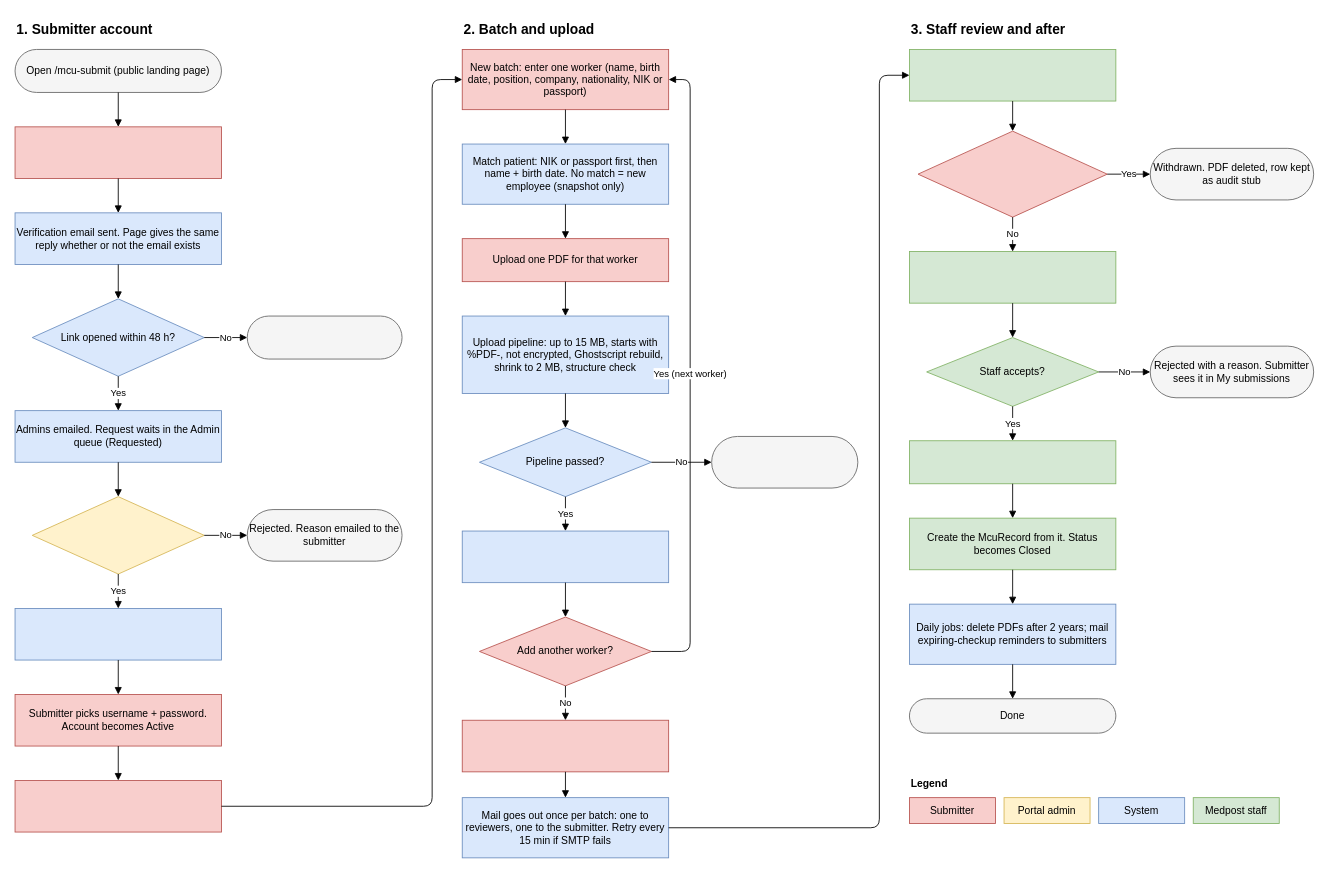
Image size: 1329x873. Some labels were removed from this diagram. The centre of each missing label's shape, as x and y in pixels:
Approval email with one-time setup link (valid 3 days): point 117,634
Mark Reviewed: point 1012,462
Portal admin approves?: point 117,535
Press Send for review and confirm. Batch is locked, documents become Pending: point 565,745
Register: name, email, company (pick only), position + Turnstile: point 117,152
Rejected with a message. No file or row kept: point 784,462
Request purged: point 324,337
Saved as Draft. Staff cannot see it; submitter can remove it: point 565,556
Sign in: username, password, Turnstile (5 wrong passwords lock 15 min): point 117,806
Staff opens the PDF (logged), links or creates the Patient: point 1012,277
Staff review queue (Pending documents only): point 1012,75
Submitter withdraws while still Pending?: point 1012,173
